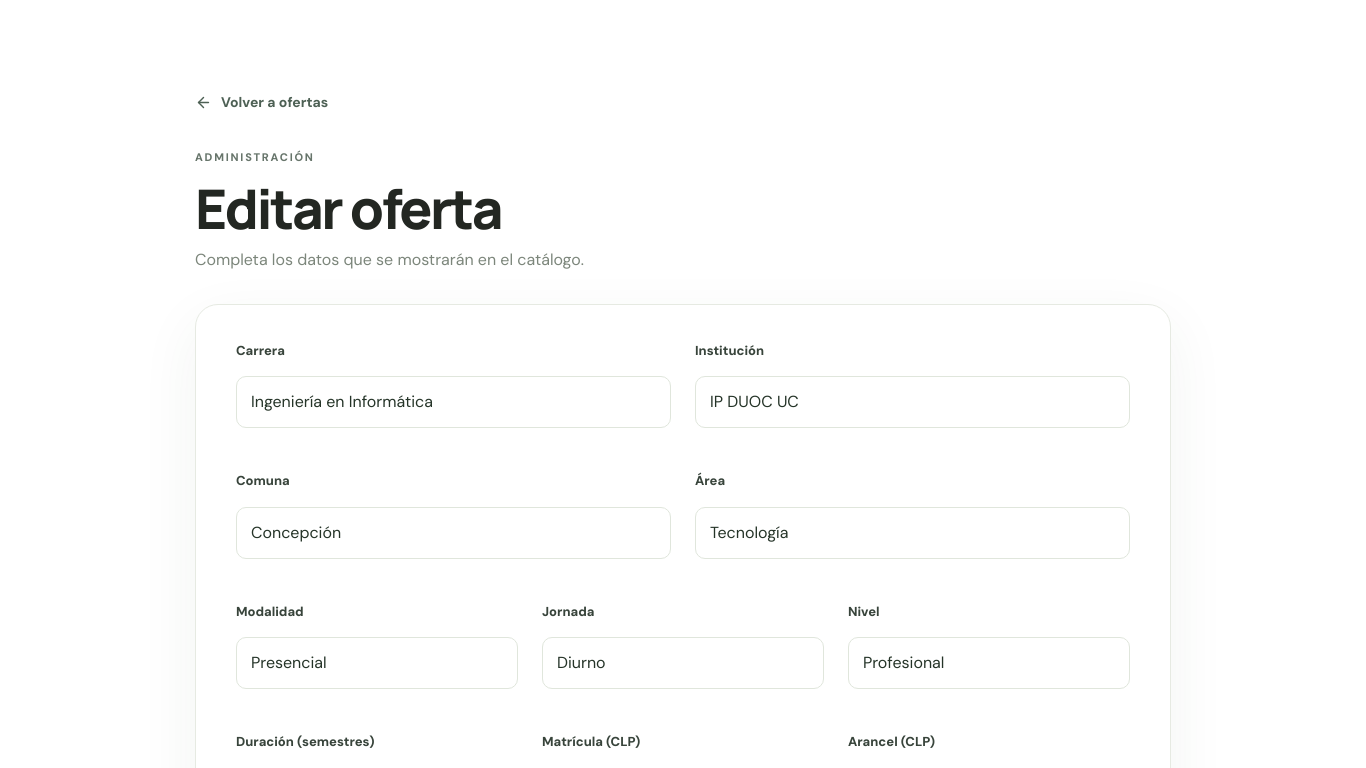
Administración de ofertas (CRUD visual) › edita una oferta existente y refleja el nombre actualizado
The image size is (1366, 768).
Replace the text in the field labelled "Carrera" with "Informática Actualizada": (454, 402) [236,376,671,428]
(page scrolled)
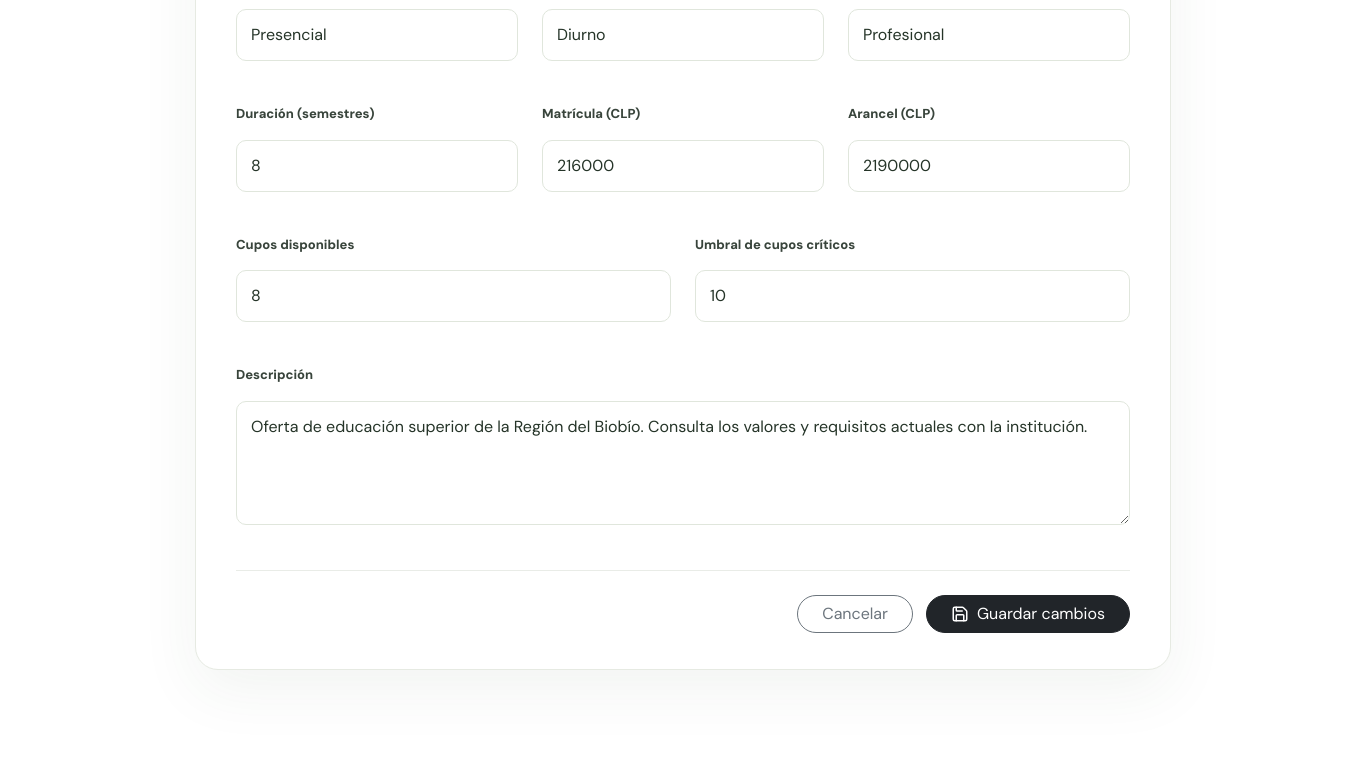
Click the button "Guardar cambios": (1028, 614) [926,595,1130,633]
(page scrolled)
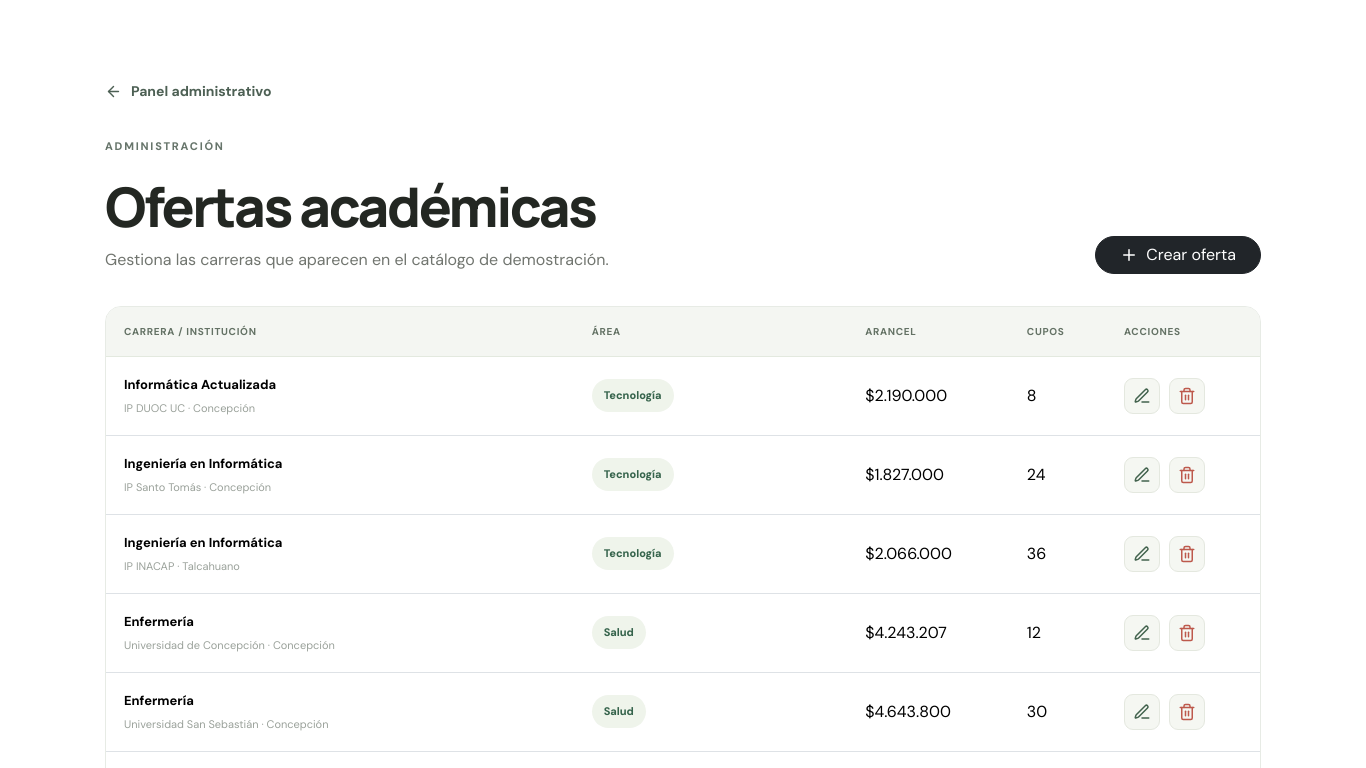
Expected: the text "Informática Actualizada" is shown, [124,376,276,393]
